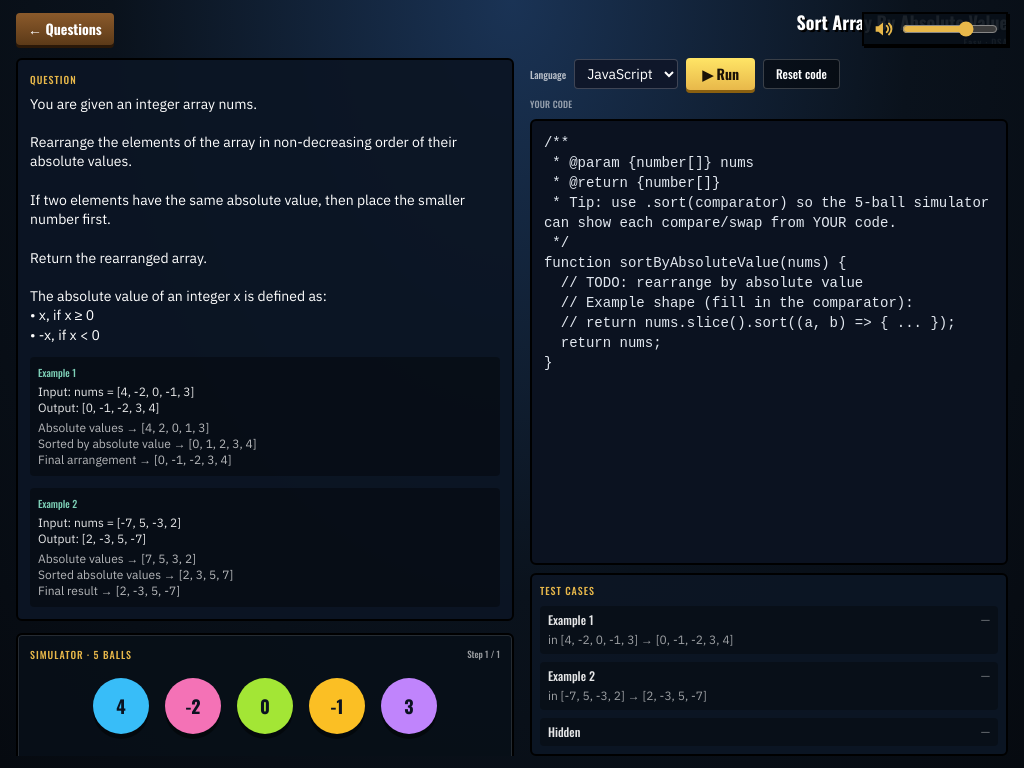
it: DsaSolvePage › shows runner coming soon for Python
The image size is (1024, 768).
Select "Python" in the dropdown labelled "Language" at (626, 74), box 574,58 -> 678,88
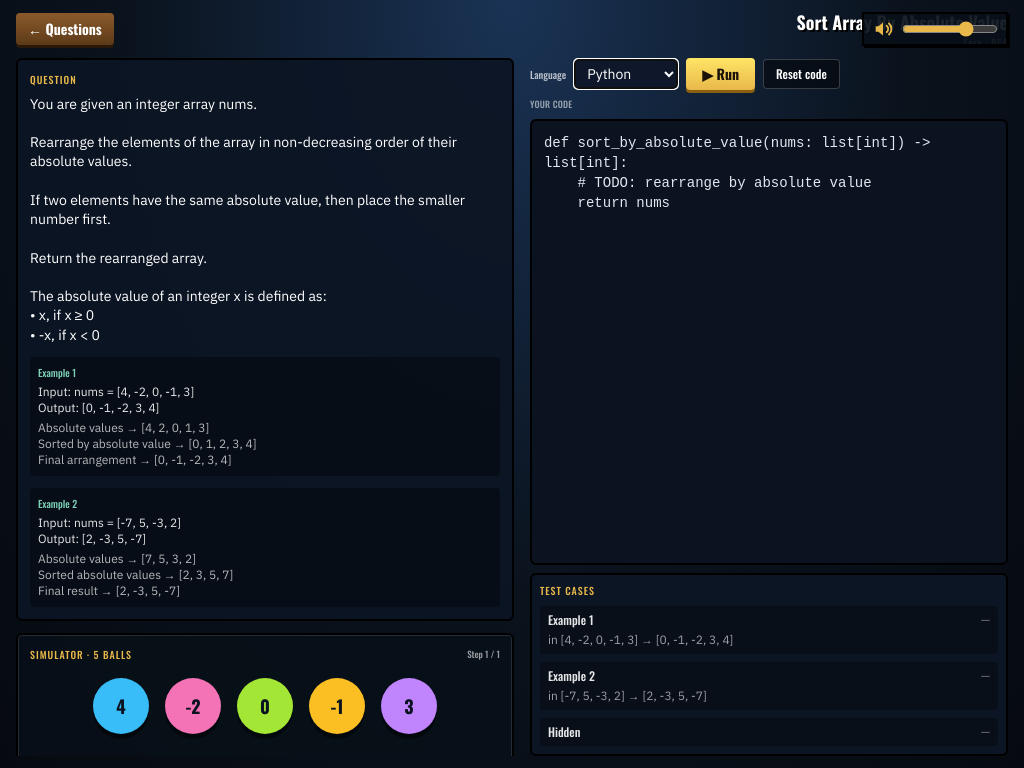
Click the button "▶ Run" at (721, 74), box 686,58 -> 755,90
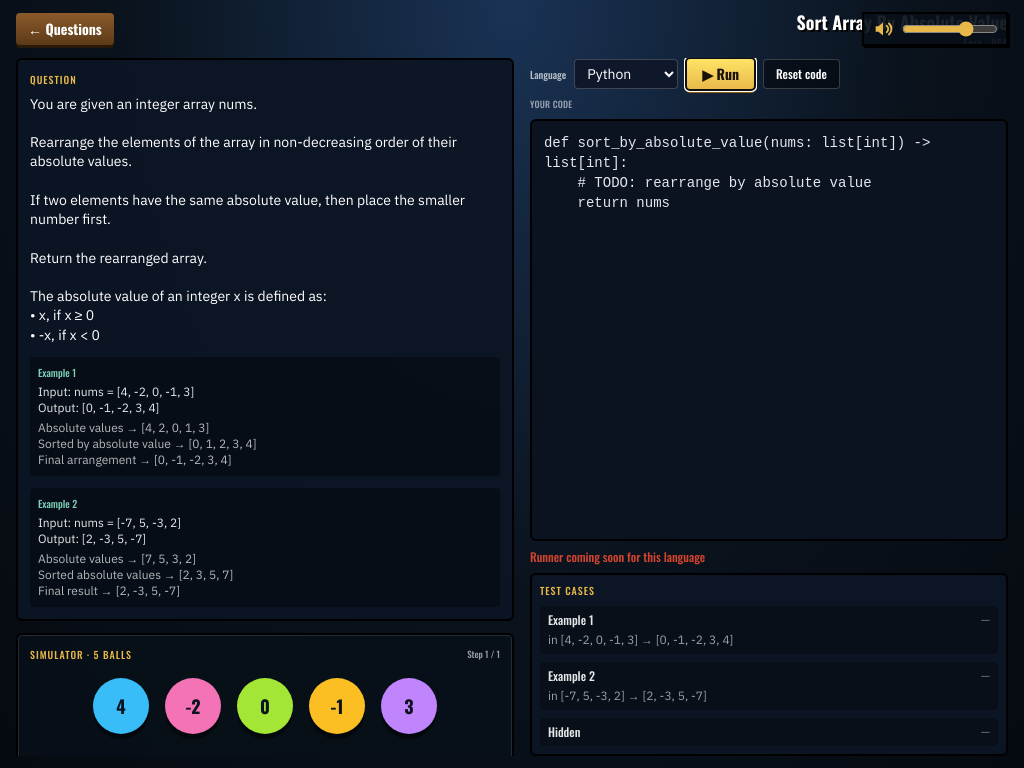
Now the text "Runner coming soon for this language" is shown, box 530,548 -> 705,565
